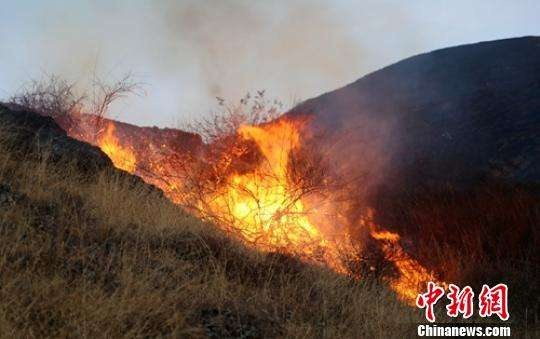fire: (86, 115, 446, 307)
